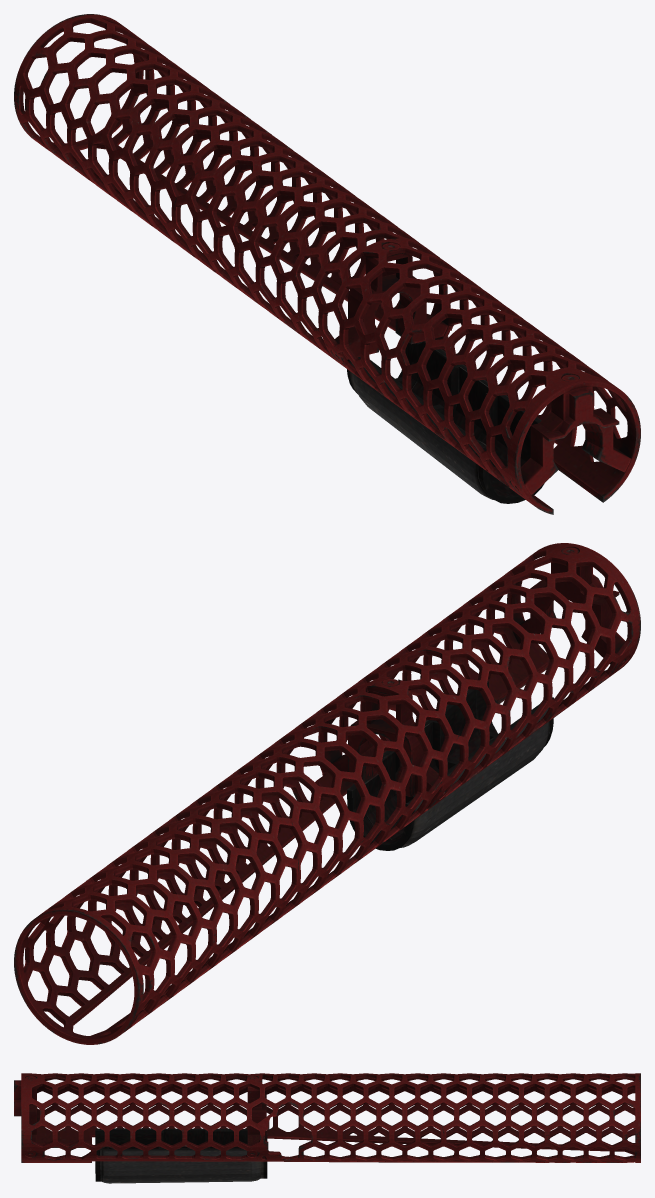
The picture shows the model from 3 angles, top to bottom: view 1: azimuth 30°, elevation 25°; view 2: azimuth 150°, elevation 25°; view 3: azimuth 270°, elevation 25°; orthographic projection. The views are drawn at different scales.
Parts seen in each view (by area): view 1: TW_5b80242286f77429445e0b47_PZ_Import; view 2: TW_5b80242286f77429445e0b47_PZ_Import; view 3: TW_5b80242286f77429445e0b47_PZ_Import.
Part boxes in pixels (x1,y1,x2,y2): TW_5b80242286f77429445e0b47_PZ_Import: (14, 14, 640, 514); TW_5b80242286f77429445e0b47_PZ_Import: (14, 543, 640, 1044); TW_5b80242286f77429445e0b47_PZ_Import: (14, 1073, 640, 1183).
Size of the model in its own units: 0.033 by 0.2314 by 0.042.
1 material, 1 textured.
